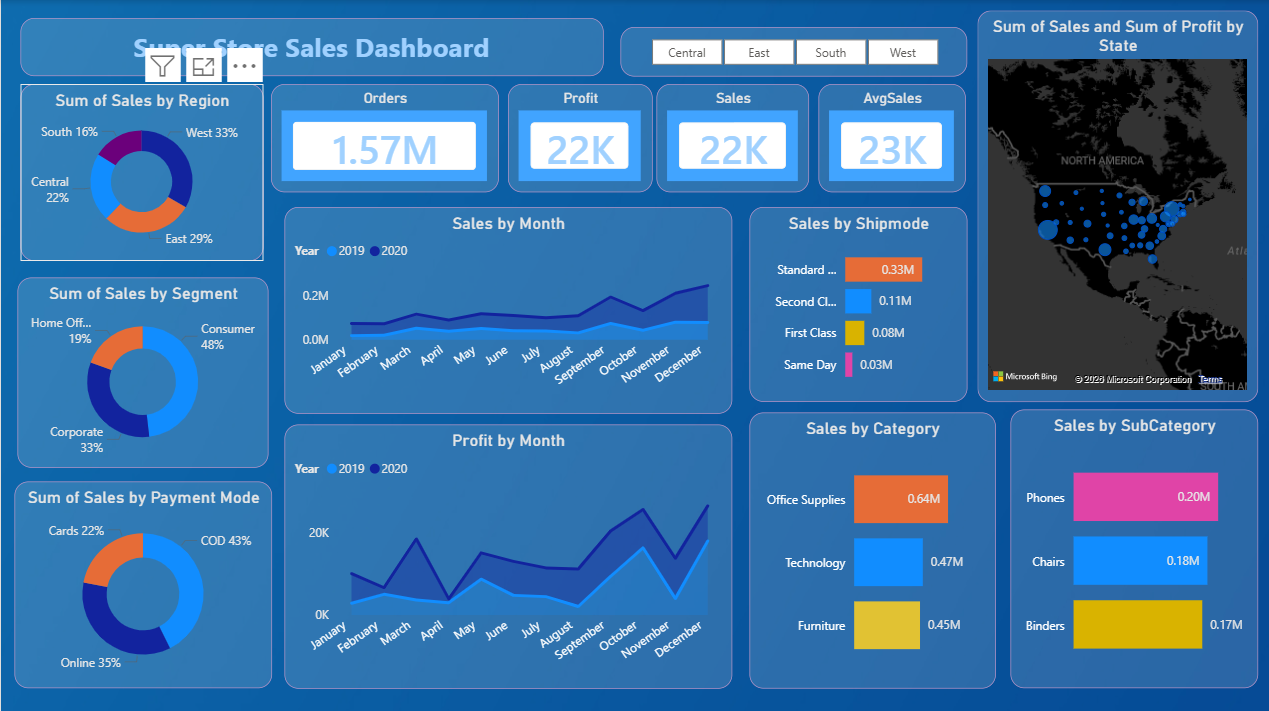

The dashboard page shown, as its layout file describes it:
{"tool":"powerbi","page":{"name":"Dashboard","canvas":[1280,720],"ordinal":0},"visuals":[{"type":"clusteredBarChart","title":"Sales by Category","fields":{"Category":["SuperStore_Sales_Dataset.Category"],"Y":["Sum(SuperStore_Sales_Dataset.Sales)"]},"box":[755,416.7,248.3,278.3],"z":0},{"type":"clusteredBarChart","title":"Sales by SubCategory","fields":{"Category":["SuperStore_Sales_Dataset.Sub-Category"],"Y":["Sum(SuperStore_Sales_Dataset.Sales)"]},"box":[1019.2,413.6,250.1,281.2],"z":1000},{"type":"clusteredBarChart","title":"Sales by Shipmode","fields":{"Category":["SuperStore_Sales_Dataset.Ship Mode"],"Y":["Sum(SuperStore_Sales_Dataset.Sales)"]},"box":[755,208.3,220,196.7],"z":2000},{"type":"stackedAreaChart","title":"Profit by Month","fields":{"Category":["SuperStore_Sales_Dataset.Order Date.Variation.Date Hierarchy.Month","SuperStore_Sales_Dataset.Order Date.Variation.Date Hierarchy.Day"],"Series":["SuperStore_Sales_Dataset.Order Date.Variation.Date Hierarchy.Year"],"Y":["Sum(SuperStore_Sales_Dataset.Profit)"]},"box":[286.7,428.3,451.7,266.7],"z":3000},{"type":"stackedAreaChart","title":"Sales by Month","fields":{"Y":["Sum(SuperStore_Sales_Dataset.Sales)"],"Category":["SuperStore_Sales_Dataset.Order Date.Variation.Date Hierarchy.Month","SuperStore_Sales_Dataset.Order Date.Variation.Date Hierarchy.Day"],"Series":["SuperStore_Sales_Dataset.Order Date.Variation.Date Hierarchy.Year"]},"box":[286.7,208.3,451.7,208.3],"z":4000},{"type":"map","fields":{"Category":["SuperStore_Sales_Dataset.State"],"Size":["Sum(SuperStore_Sales_Dataset.Sales)"]},"box":[985,10,283.3,395],"z":5000},{"type":"donutChart","fields":{"Category":["SuperStore_Sales_Dataset.Segment"],"Y":["Sum(SuperStore_Sales_Dataset.Sales)"]},"box":[16.7,280,253.3,191.7],"z":6000},{"type":"donutChart","fields":{"Category":["SuperStore_Sales_Dataset.Payment Mode"],"Y":["Sum(SuperStore_Sales_Dataset.Sales)"]},"box":[13.3,486.7,260,208.3],"z":7000},{"type":"slicer","fields":{"Values":["SuperStore_Sales_Dataset.Region"]},"box":[625,26.7,350,50],"z":8000},{"type":"textbox","box":[20,18.3,588.3,58.3],"z":9000},{"type":"cardVisual","title":"Orders","fields":{"Data":["Sum(SuperStore_Sales_Dataset.Sales)"]},"box":[273,85.2,229.8,109.5],"z":10000},{"type":"cardVisual","title":"Profit","fields":{"Data":["Sum(SuperStore_Sales_Dataset.Quantity)"]},"box":[512.3,85.2,146,109.5],"z":11000},{"type":"cardVisual","title":"Sales","fields":{"Data":["Sum(SuperStore_Sales_Dataset.Quantity)"]},"box":[661,85.2,154.1,109.5],"z":12000},{"type":"cardVisual","title":"AvgSales","fields":{"Data":["Sum(SuperStore_Sales_Dataset.AvgDelivery)"]},"box":[825.9,85.2,148.7,109.5],"z":13000},{"type":"donutChart","fields":{"Category":["SuperStore_Sales_Dataset.Region"],"Y":["Sum(SuperStore_Sales_Dataset.Sales)"]},"box":[20,85,245,178.3],"z":14000}]}

Visuals, with their boxes in screenshot pixels (x1, y1, x2, y2), scaled from the page's 1280x720 canvas onto the 1269x711 screenshot:
"Sales by Category" clusteredBarChart: l=749, t=411, r=995, b=686
"Sales by SubCategory" clusteredBarChart: l=1010, t=408, r=1258, b=686
"Sales by Shipmode" clusteredBarChart: l=749, t=206, r=967, b=400
"Profit by Month" stackedAreaChart: l=284, t=423, r=732, b=686
"Sales by Month" stackedAreaChart: l=284, t=206, r=732, b=411
map - SuperStore_Sales_Dataset.State x Sum(SuperStore_Sales_Dataset.Sales): l=977, t=10, r=1257, b=400
donutChart - SuperStore_Sales_Dataset.Segment x Sum(SuperStore_Sales_Dataset.Sales): l=17, t=276, r=268, b=466
donutChart - SuperStore_Sales_Dataset.Payment Mode x Sum(SuperStore_Sales_Dataset.Sales): l=13, t=481, r=271, b=686
slicer - SuperStore_Sales_Dataset.Region: l=620, t=26, r=967, b=76
textbox: l=20, t=18, r=603, b=76
"Orders" cardVisual: l=271, t=84, r=498, b=192
"Profit" cardVisual: l=508, t=84, r=653, b=192
"Sales" cardVisual: l=655, t=84, r=808, b=192
"AvgSales" cardVisual: l=819, t=84, r=966, b=192
donutChart - SuperStore_Sales_Dataset.Region x Sum(SuperStore_Sales_Dataset.Sales): l=20, t=84, r=263, b=260
